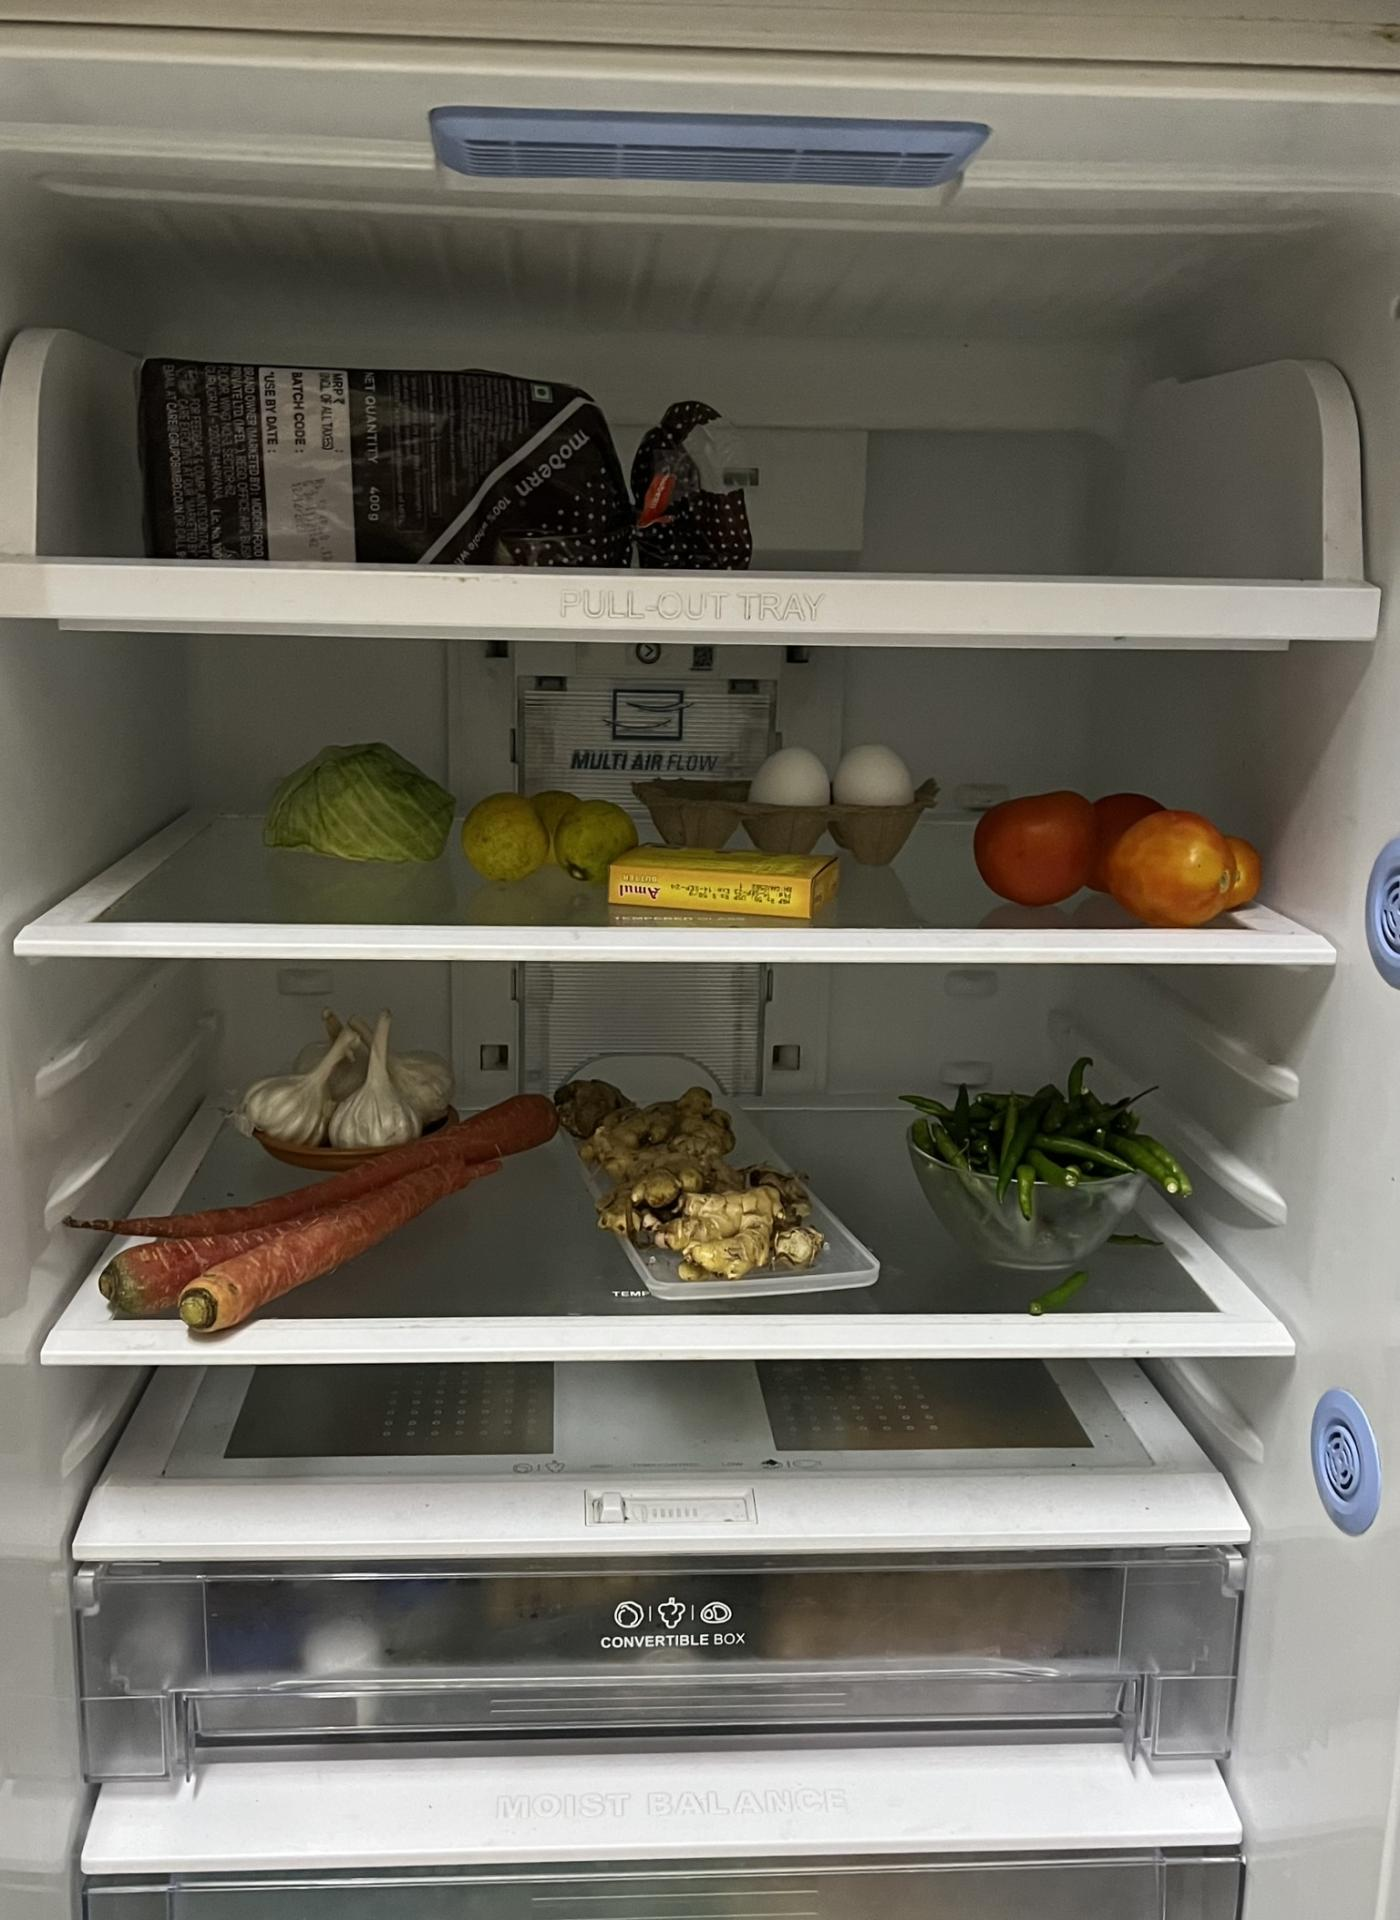bread: (137, 362, 753, 556)
butter: (605, 848, 851, 924)
cabbage: (255, 744, 461, 871)
carrots: (82, 1102, 553, 1334)
coriander: (902, 1087, 1161, 1239)
egg: (754, 733, 918, 857)
garlic: (242, 999, 452, 1145)
ginger: (590, 1087, 826, 1279)
lemon: (467, 790, 640, 890)
tomato: (981, 789, 1264, 920)
